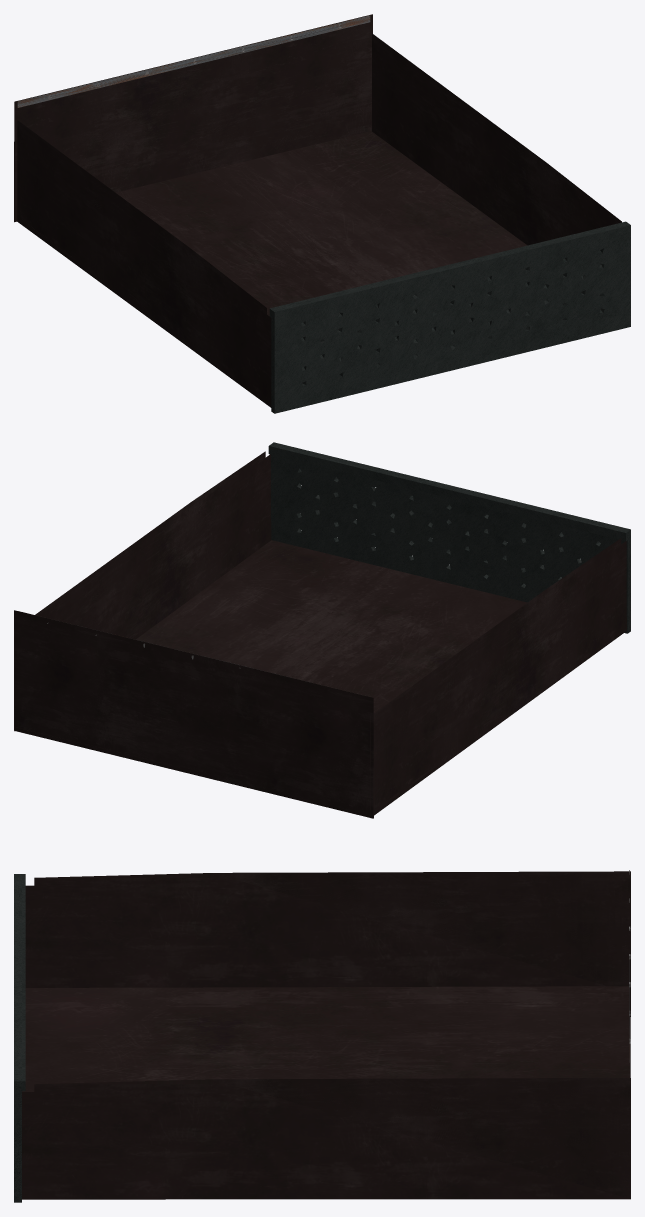
Rendered from BoxBlack.fbx.
3 renders of one model, top to bottom at view 1: azimuth 30°, elevation 25°; view 2: azimuth 150°, elevation 25°; view 3: azimuth 270°, elevation 25°, orthographic. The views are drawn at different scales.
Parts seen in each view (by area): view 1: BoxFloorBlack, PlugBoardFrame, PlugBoardFrameBack, PlugBoardFrameLeft, PlugBoardFrameRight; view 2: PlugBoardFrameBack, BoxFloorBlack, PlugBoardFrame, PlugBoardFrameLeft, PlugBoardFrameRight; view 3: PlugBoardFrameRight, PlugBoardFrameLeft, BoxFloorBlack, PlugBoardFrame.
Boxes of the visible parts, <box> form: BoxFloorBlack: <box>17,131,600,329</box>; PlugBoardFrame: <box>269,221,630,413</box>; PlugBoardFrameBack: <box>14,14,372,222</box>; PlugBoardFrameLeft: <box>17,120,271,407</box>; PlugBoardFrameRight: <box>372,33,621,264</box>; PlugBoardFrameBack: <box>14,610,373,818</box>; BoxFloorBlack: <box>16,540,527,812</box>; PlugBoardFrame: <box>268,442,630,633</box>; PlugBoardFrameLeft: <box>370,538,626,815</box>; PlugBoardFrameRight: <box>14,451,271,731</box>; PlugBoardFrameRight: <box>22,1078,630,1199</box>; PlugBoardFrameLeft: <box>25,871,630,987</box>; BoxFloorBlack: <box>22,986,629,1091</box>; PlugBoardFrame: <box>14,874,25,1202</box>.
Bounding box in the file's own units: 3186 × 1046 × 3980.
